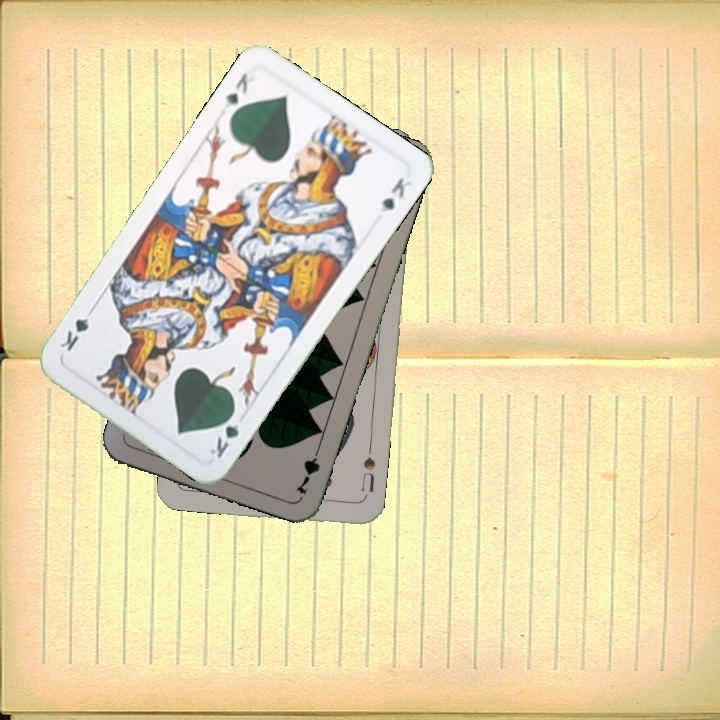G7: (291, 440, 324, 497)
GK: (204, 406, 244, 461), (220, 69, 251, 112)
SU: (357, 453, 378, 495)
